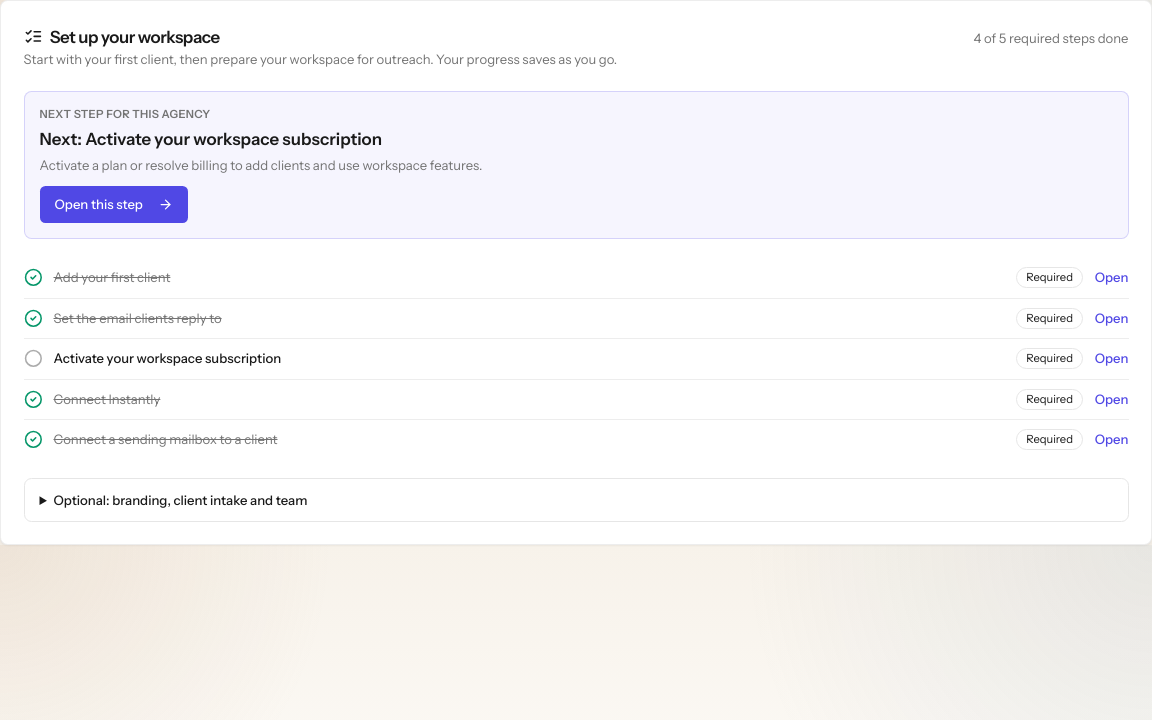
SetupChecklist › shows saved setup during platform review and links billing to the selected agency
Expected: the text "Next: Activate your workspace subscription" is shown, [40,129,382,149]
Click the heading "Optional: branding, client intake and team": (180, 500) [53,492,307,508]
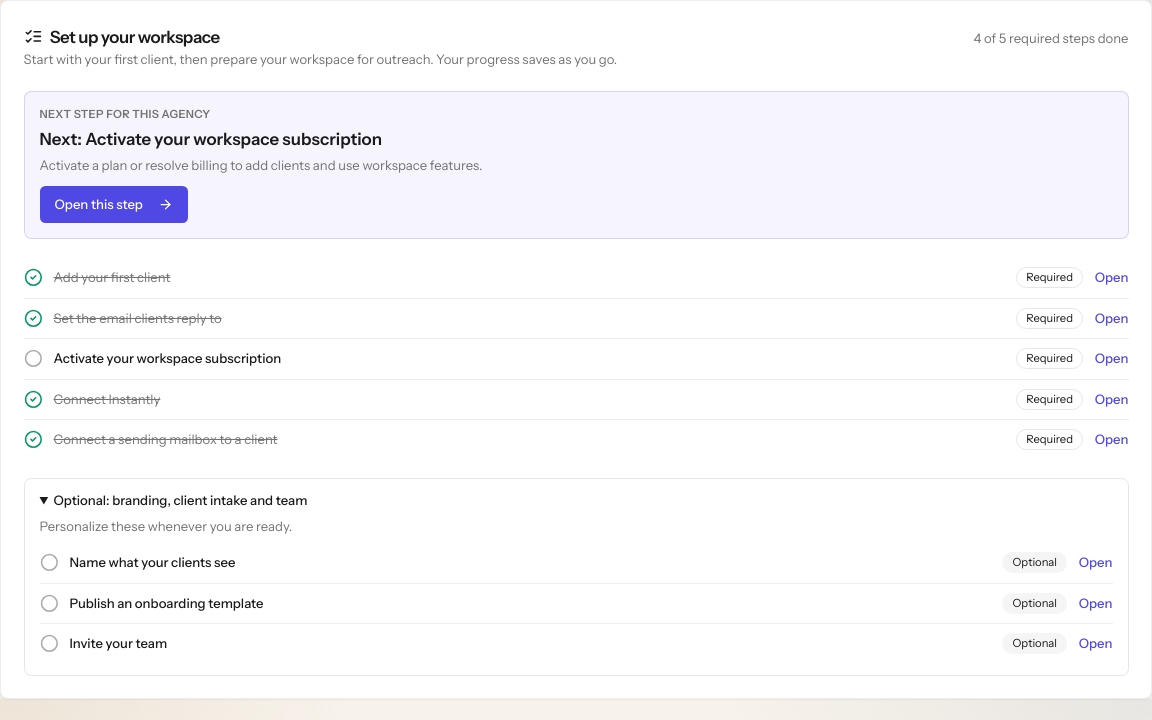
Now the text "Invite your team" is shown, box [70,635,167,651]
